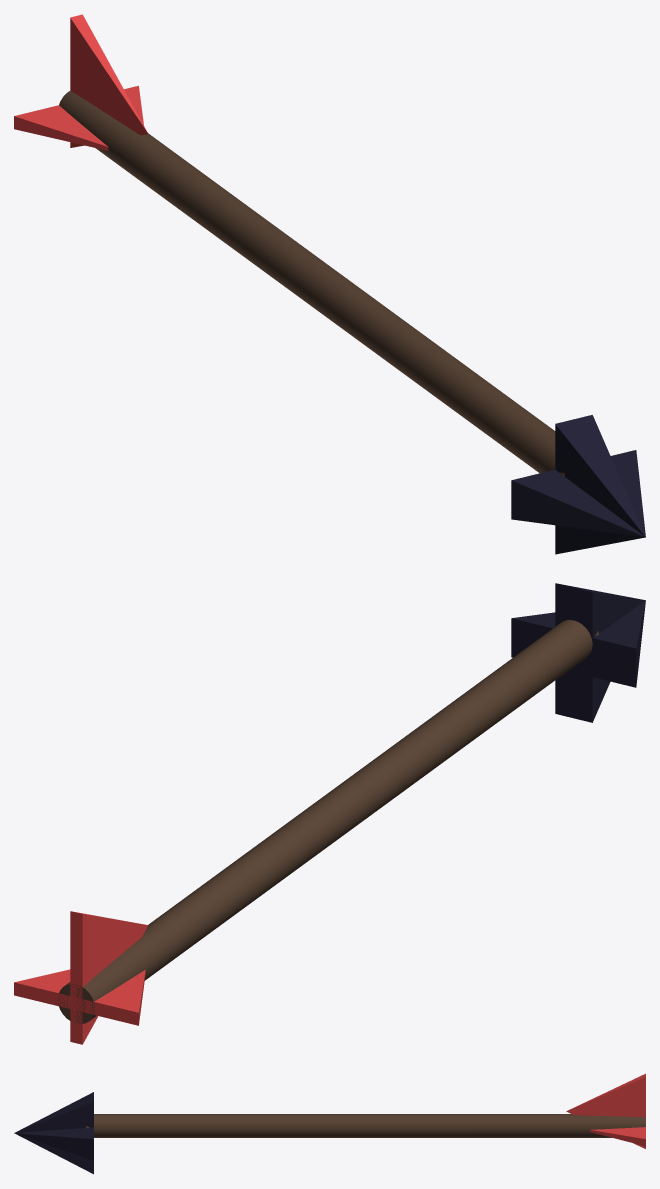
File: CastleTowerArrow.fbx
The picture shows the model from 3 angles, top to bottom: view 1: azimuth 30°, elevation 25°; view 2: azimuth 150°, elevation 25°; view 3: azimuth 270°, elevation 25°; orthographic projection. The views are drawn at different scales.
Parts seen in each view (by area): view 1: mergedBlocks; view 2: mergedBlocks; view 3: mergedBlocks.
Part boxes in pixels (x1=…): mergedBlocks: x1=14, y1=14, x2=645, y2=554; mergedBlocks: x1=14, y1=583, x2=645, y2=1044; mergedBlocks: x1=14, y1=1073, x2=645, y2=1174.
Bounding box in the file's own units: 1 × 1.3 × 7.9.
